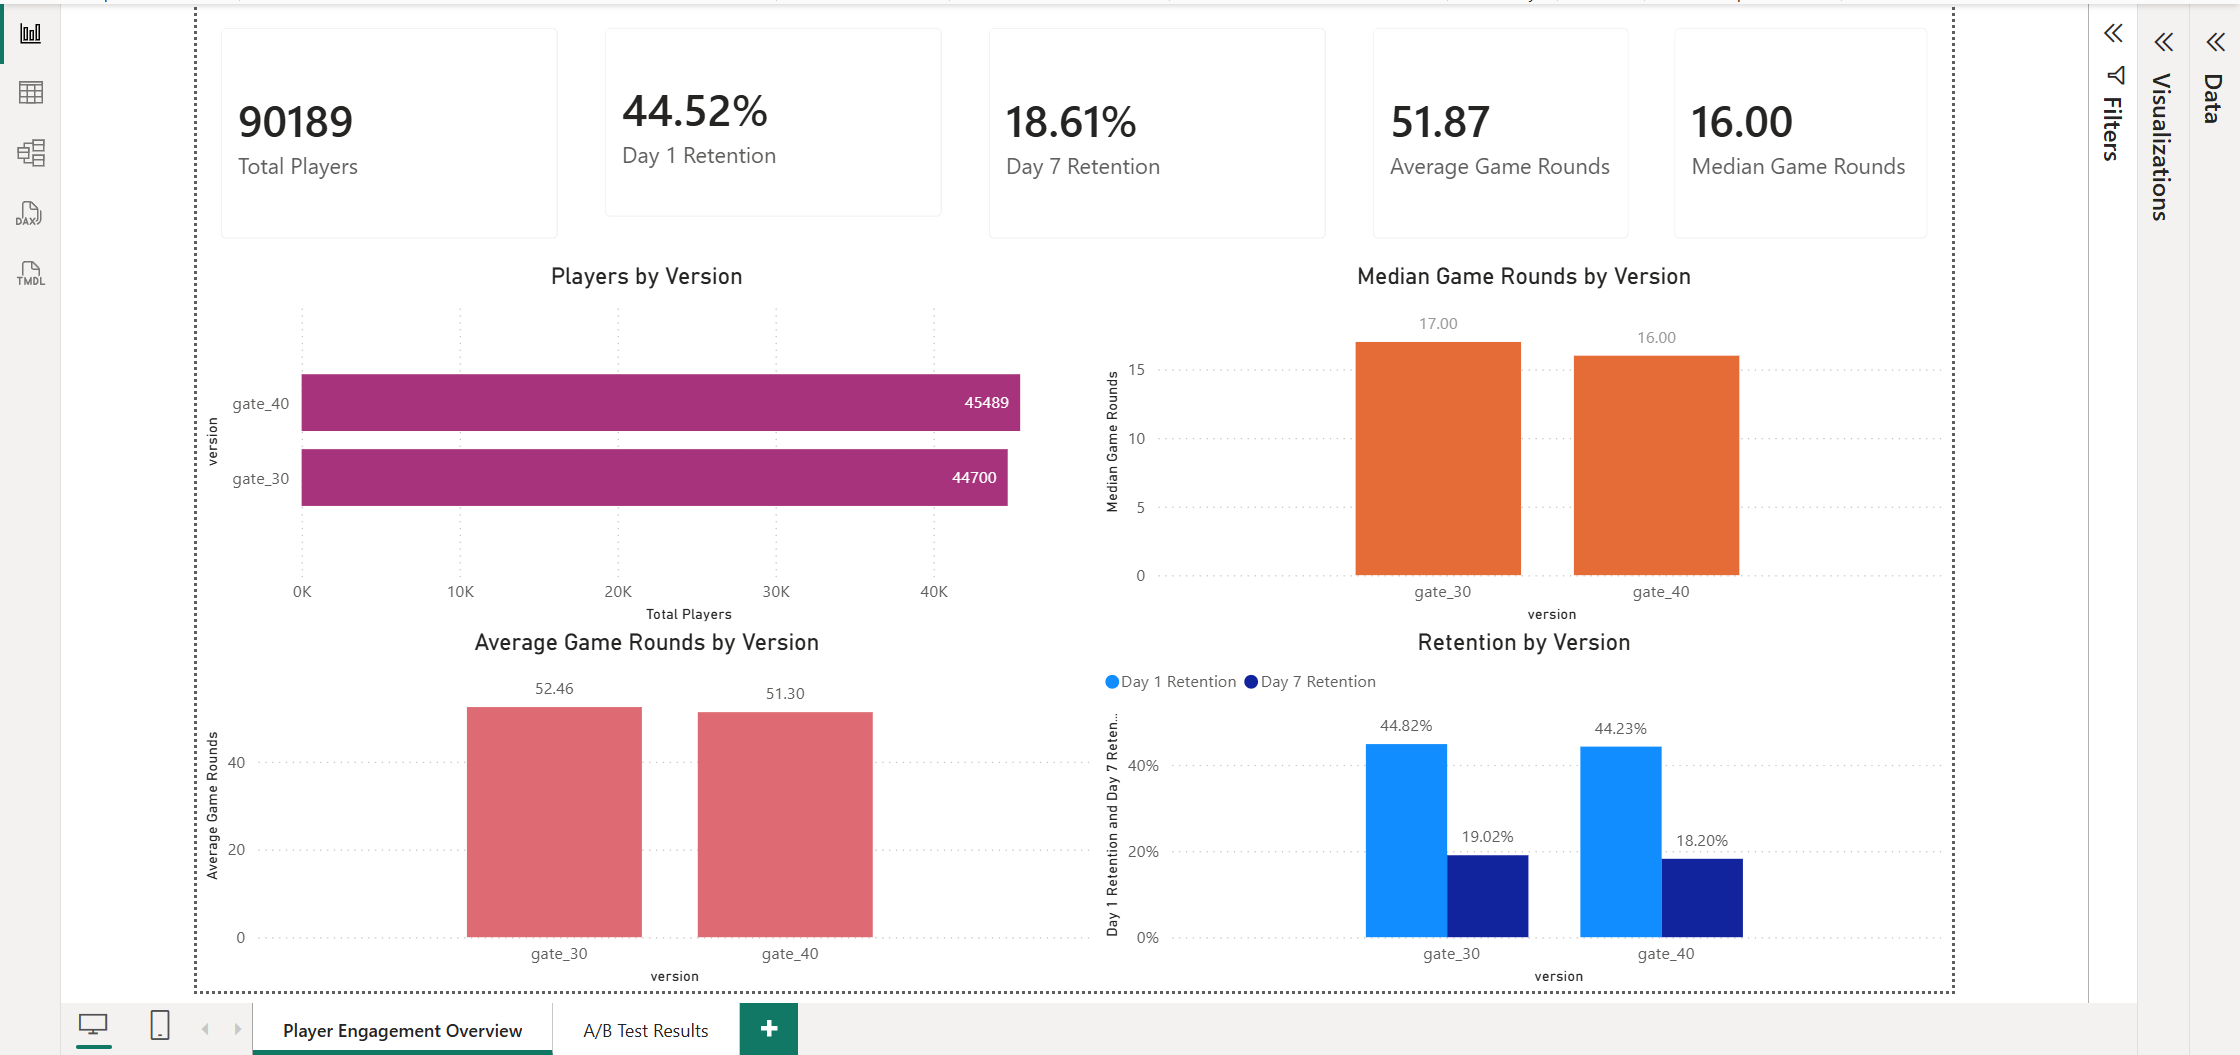

Layout of this report page (visuals, bound fields, positions):
{"tool":"powerbi","page":{"name":"Player Engagement Overview","canvas":[1280,720],"ordinal":0},"visuals":[{"type":"cardVisual","fields":{"Data":["cookie_cats_clean.Day 1 Retention"]},"box":[280,0,280,172.3],"z":0},{"type":"cardVisual","fields":{"Data":["cookie_cats_clean.Total Players"]},"box":[0,0,280,188.1],"z":1000},{"type":"cardVisual","fields":{"Data":["cookie_cats_clean.Average Game Rounds"]},"box":[840.1,0,221.2,188.1],"z":2000},{"type":"cardVisual","fields":{"Data":["cookie_cats_clean.Median Game Rounds"]},"box":[1059.8,0,219.7,188.1],"z":3000},{"type":"cardVisual","fields":{"Data":["cookie_cats_clean.Day 7 Retention"]},"box":[560.1,0,280,188.1],"z":4000},{"type":"clusteredBarChart","title":"Players by Version","fields":{"Category":["cookie_cats_clean.version"],"Y":["cookie_cats_clean.Total Players"]},"box":[0,188.1,656.3,267.1],"z":5000},{"type":"clusteredColumnChart","title":"Average Game Rounds by Version","fields":{"Category":["cookie_cats_clean.version"],"Y":["cookie_cats_clean.Average Game Rounds"]},"box":[0,455.2,656.3,264.2],"z":6000},{"type":"clusteredColumnChart","title":"Median Game Rounds by Version","fields":{"Category":["cookie_cats_clean.version"],"Y":["cookie_cats_clean.Median Game Rounds"]},"box":[656.3,188.1,623.2,267.1],"z":7000},{"type":"clusteredColumnChart","title":"Retention by Version","fields":{"Category":["cookie_cats_clean.version"],"Y":["cookie_cats_clean.Day 1 Retention","cookie_cats_clean.Day 7 Retention"]},"box":[656.3,455.2,623.2,264.2],"z":8000}]}

Visuals, with their boxes on the page's 1280x720 design canvas (x1, y1, x2, y2). These are canvas units, not pixel positions in the 2240x1055 screenshot, which may show the page scaled, cropped or inside an application window:
cardVisual - cookie_cats_clean.Day 1 Retention: box(280, 0, 560, 172)
cardVisual - cookie_cats_clean.Total Players: box(0, 0, 280, 188)
cardVisual - cookie_cats_clean.Average Game Rounds: box(840, 0, 1061, 188)
cardVisual - cookie_cats_clean.Median Game Rounds: box(1060, 0, 1280, 188)
cardVisual - cookie_cats_clean.Day 7 Retention: box(560, 0, 840, 188)
"Players by Version" clusteredBarChart: box(0, 188, 656, 455)
"Average Game Rounds by Version" clusteredColumnChart: box(0, 455, 656, 719)
"Median Game Rounds by Version" clusteredColumnChart: box(656, 188, 1280, 455)
"Retention by Version" clusteredColumnChart: box(656, 455, 1280, 719)
